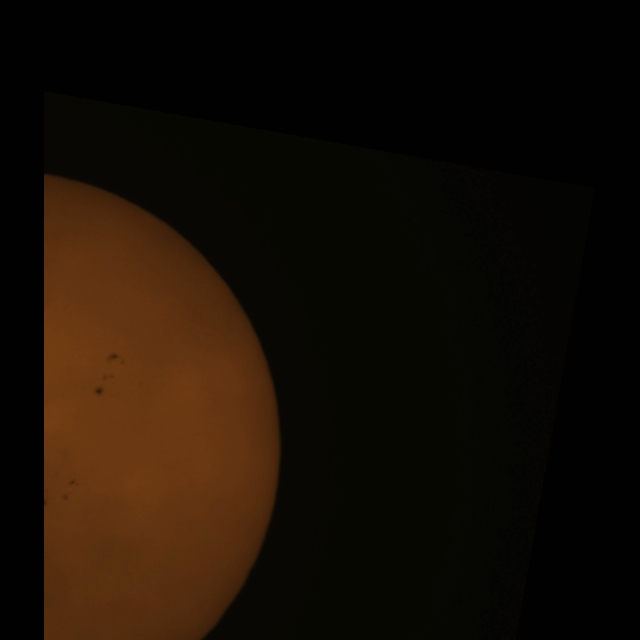sunspot: (101, 352, 124, 382), (93, 372, 116, 396), (61, 478, 79, 502), (105, 351, 126, 369), (93, 384, 105, 397), (61, 493, 70, 502)
